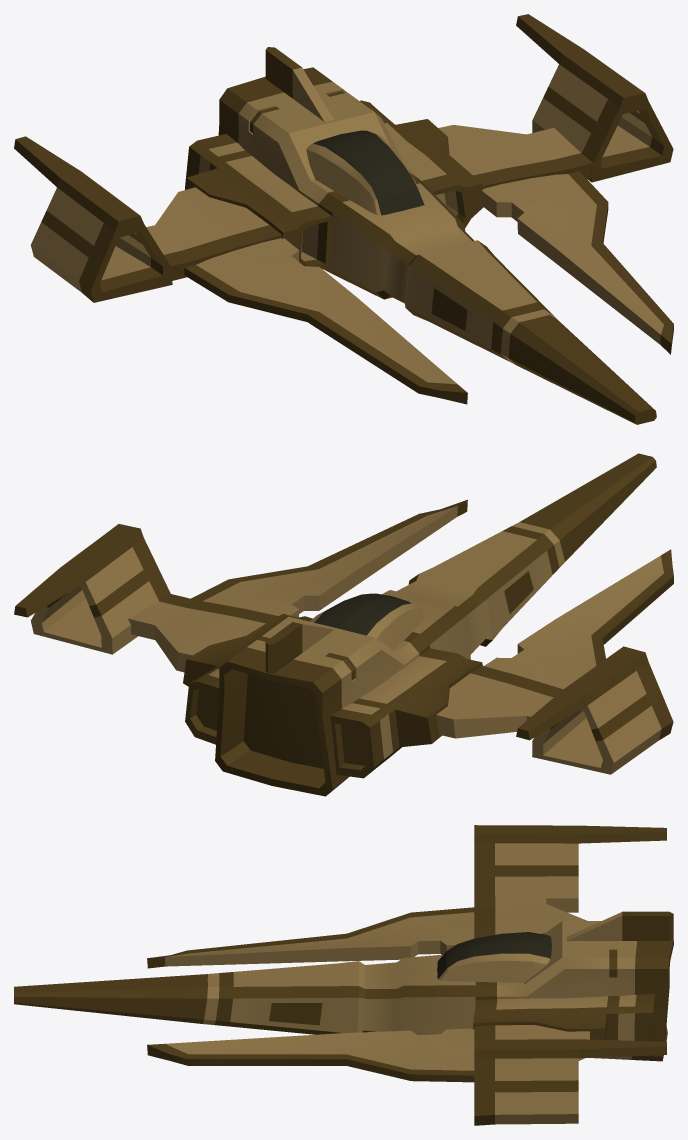
Rendered from quaternius-ultimate-space-spaceship-rae-the-red-panda-transformed.glb.
3 renders of one model, top to bottom at view 1: azimuth 30°, elevation 25°; view 2: azimuth 150°, elevation 25°; view 3: azimuth 270°, elevation 25°, orthographic. The views are drawn at different scales.
Visible parts, largest first — view 1: Spaceship_RaeTheRedPanda; view 2: Spaceship_RaeTheRedPanda; view 3: Spaceship_RaeTheRedPanda.
Boxes of the visible parts, box(x1,y1,x2,y2) form: Spaceship_RaeTheRedPanda: box(14, 14, 673, 424); Spaceship_RaeTheRedPanda: box(14, 453, 673, 796); Spaceship_RaeTheRedPanda: box(14, 825, 673, 1125).
Size of the model in its own units: 9.95 by 2.35 by 11.17.
Materials: 1 (1 with a texture image).
